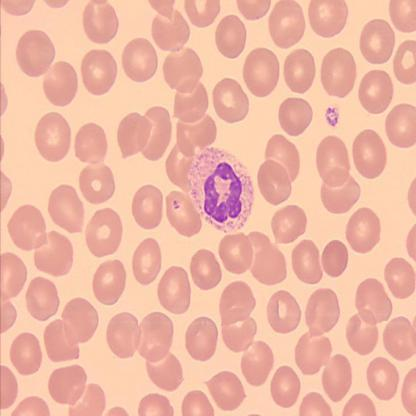Segmented neutrophil: (187, 143, 256, 235)
